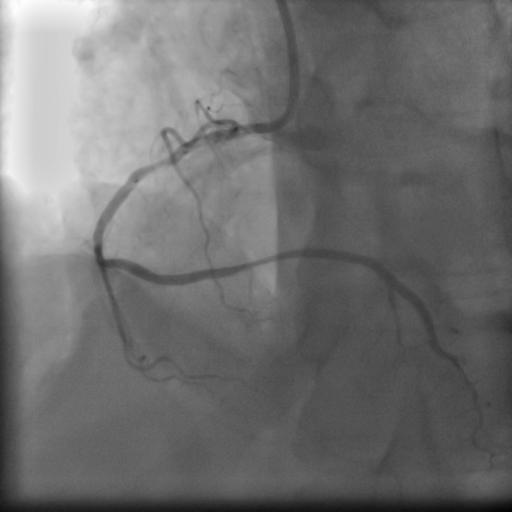Stenosis: (139, 153, 170, 174)
